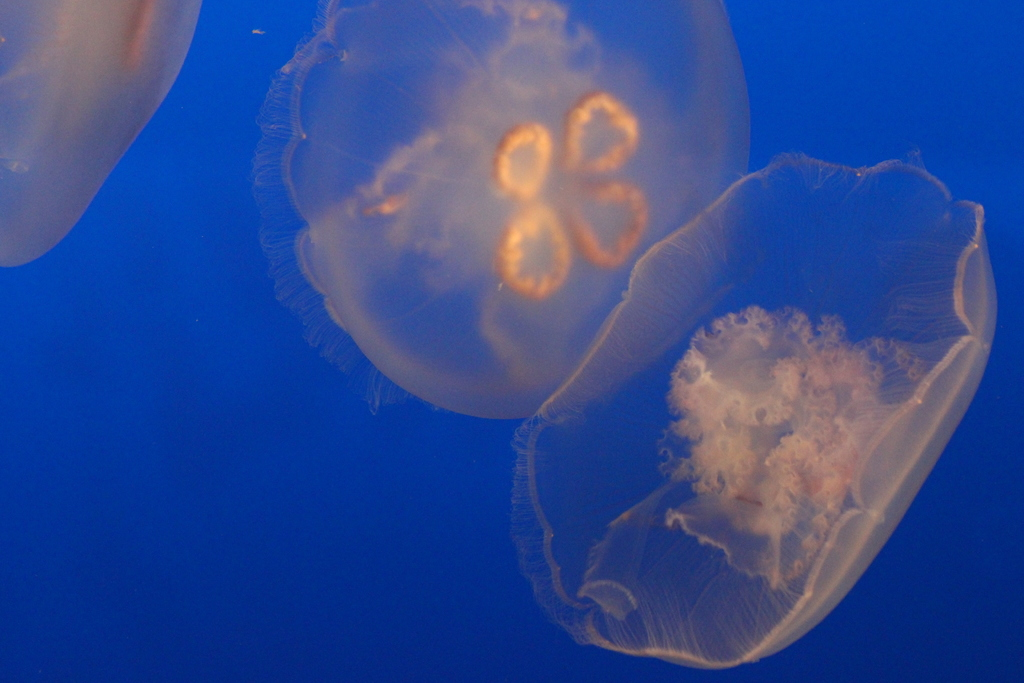Jellyfish: (254, 0, 755, 419), (0, 0, 202, 264)
